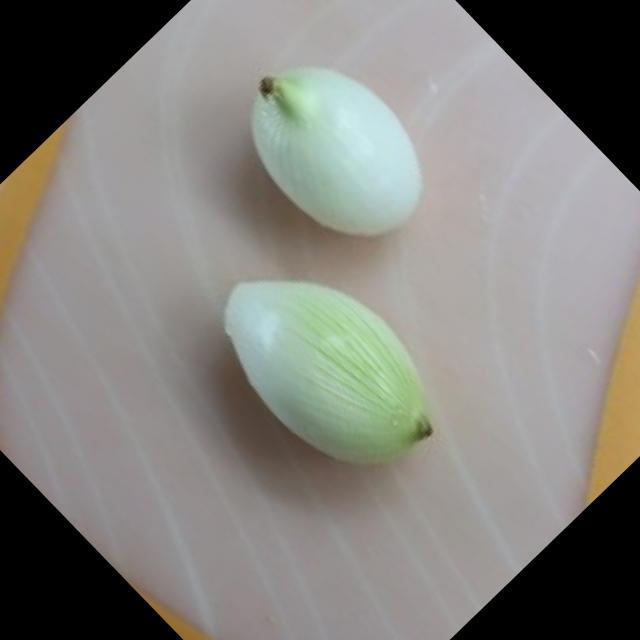Onion: (222, 279, 432, 460), (249, 69, 422, 236)
